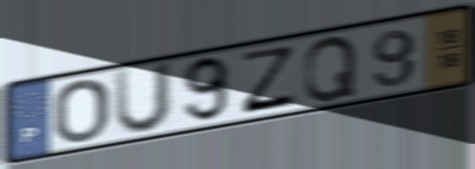9: (180, 54, 233, 125), (369, 27, 417, 89)
O: (51, 76, 112, 145)
Q: (302, 33, 359, 105)
U: (111, 59, 176, 137)
Z: (239, 44, 298, 117)
